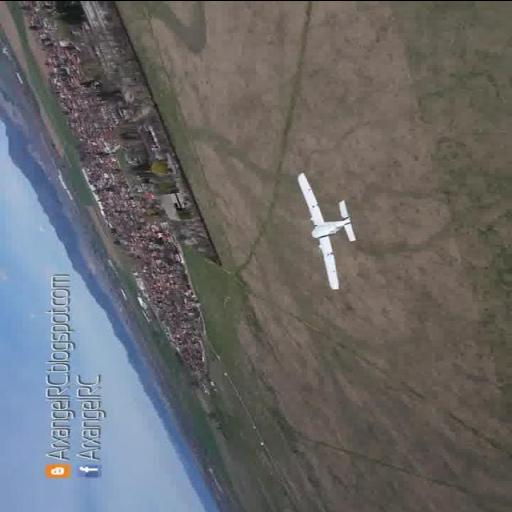uav: (295, 166, 357, 294)
